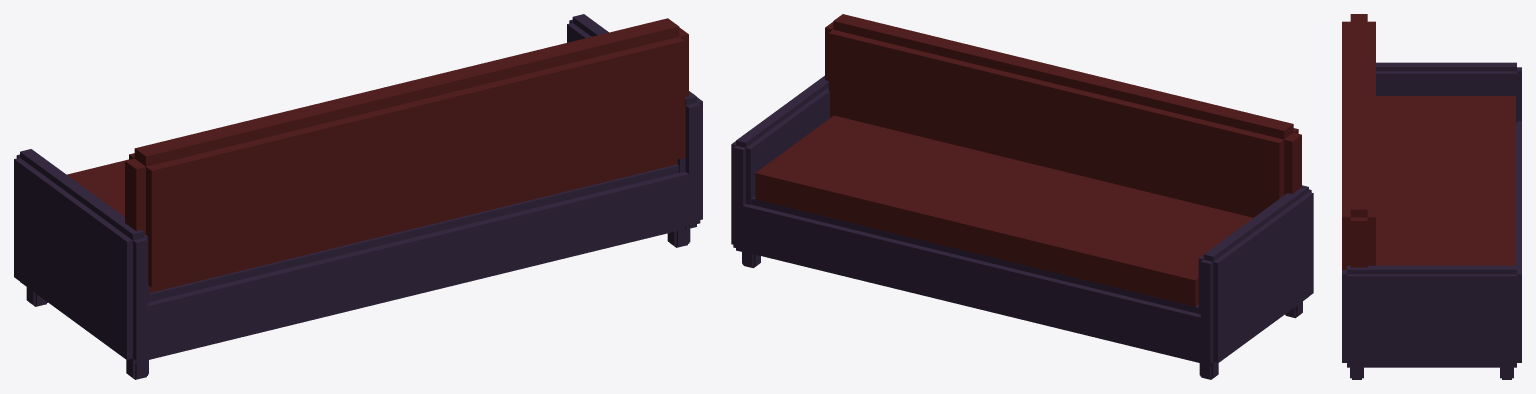
Rendered from obsidian_sofa_v0.glb.
The picture shows the model from 3 angles, left to right: view 1: azimuth 30°, elevation 25°; view 2: azimuth 150°, elevation 25°; view 3: azimuth 270°, elevation 25°; orthographic projection. The views are drawn at different scales.
Visible parts, largest first — view 1: obsidian_sofa_v0; view 2: obsidian_sofa_v0; view 3: obsidian_sofa_v0.
Boxes of the visible parts, bbox=[...] form: obsidian_sofa_v0: bbox=[14, 14, 702, 379]; obsidian_sofa_v0: bbox=[731, 14, 1313, 379]; obsidian_sofa_v0: bbox=[1342, 14, 1521, 379].
Size of the model in its own units: 2.5 by 0.92 by 0.9.
